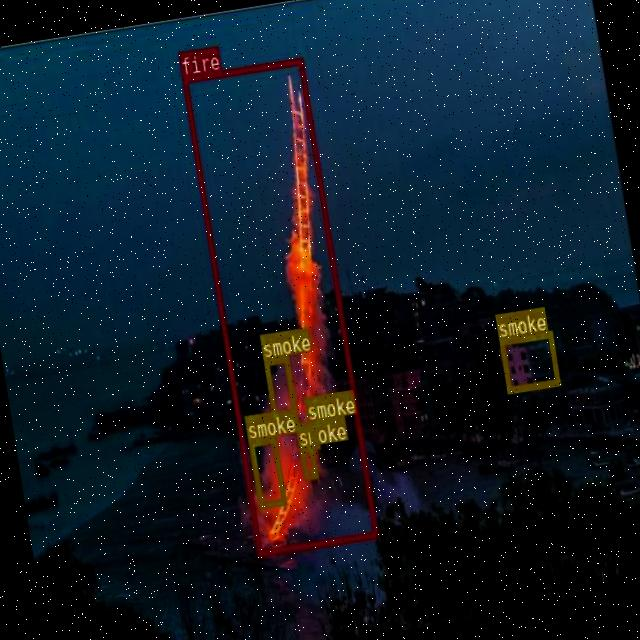fire: (182, 57, 378, 556)
smoke: (498, 329, 560, 394), (248, 434, 286, 506), (263, 354, 298, 430), (298, 444, 317, 478), (306, 419, 318, 448)
